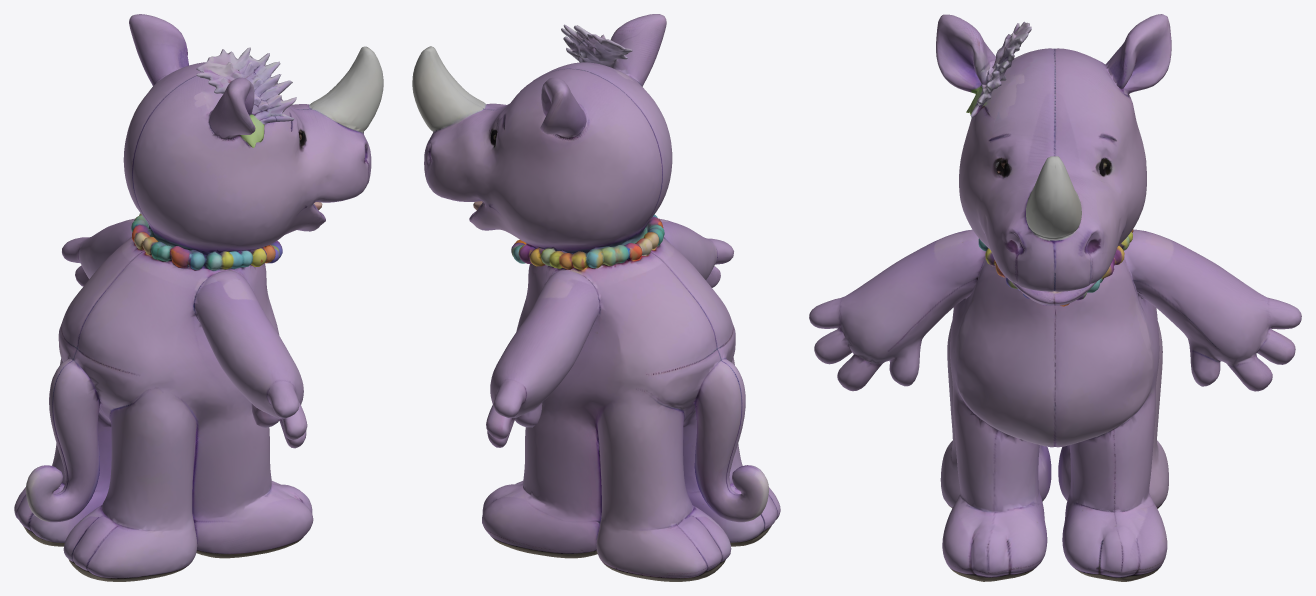
Rendered from my-rigged-avatar.glb.
The picture shows the model from 3 angles, left to right: view 1: azimuth 30°, elevation 25°; view 2: azimuth 150°, elevation 25°; view 3: azimuth 270°, elevation 25°; orthographic projection. The views are drawn at different scales.
Visible parts, largest first — view 1: tripo_node_fa541063-185a-4017-a97b-4e1ef009d77f; view 2: tripo_node_fa541063-185a-4017-a97b-4e1ef009d77f; view 3: tripo_node_fa541063-185a-4017-a97b-4e1ef009d77f.
Boxes of the visible parts, x1,y1,x2,y2 form: tripo_node_fa541063-185a-4017-a97b-4e1ef009d77f: (14,14,383,581); tripo_node_fa541063-185a-4017-a97b-4e1ef009d77f: (412,14,780,581); tripo_node_fa541063-185a-4017-a97b-4e1ef009d77f: (809,14,1301,581).
Size of the model in its own units: 0.7664 by 0.9997 by 0.8414.
1 material, 1 textured.
